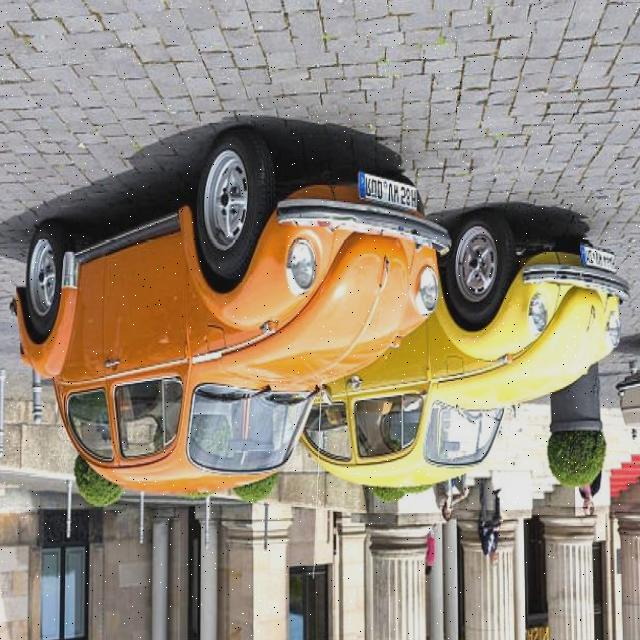car: (14, 145, 443, 492)
